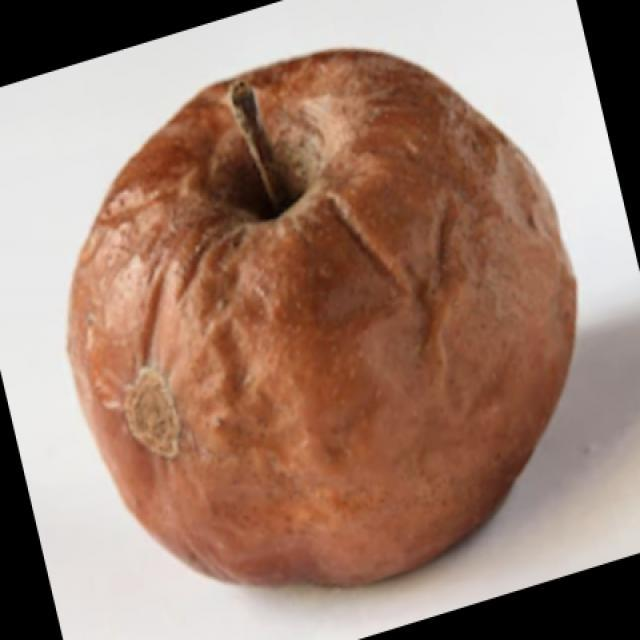Rotten: (91, 50, 582, 600)
